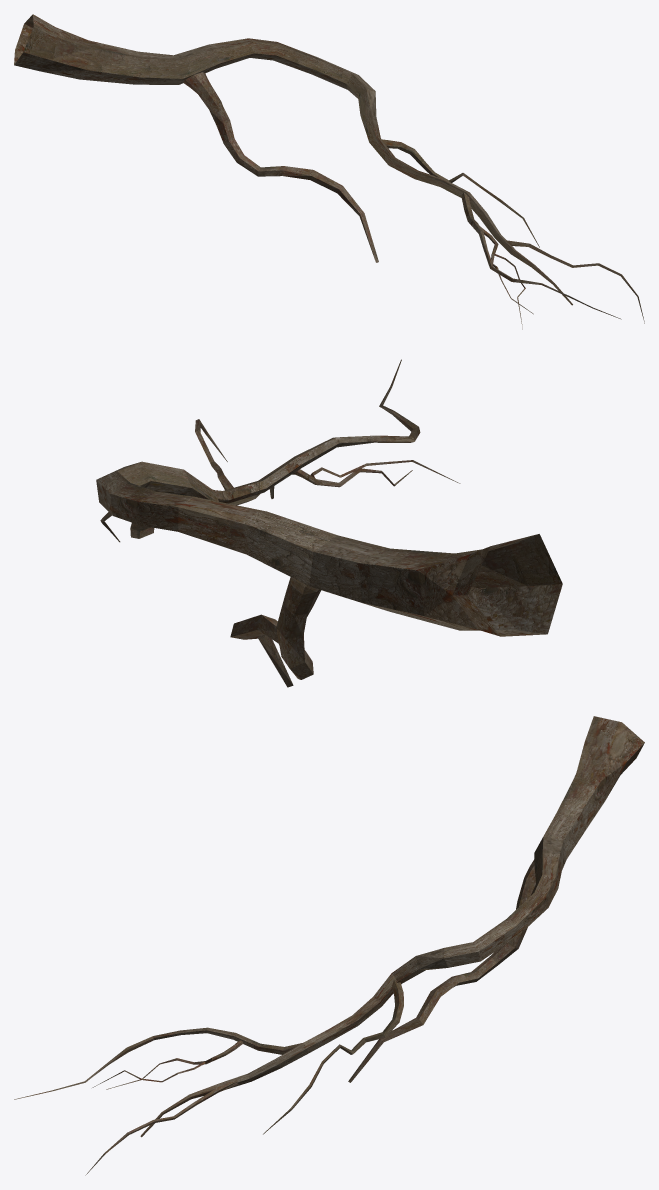
File: House62.fbx
The picture shows the model from 3 angles, top to bottom: view 1: azimuth 30°, elevation 25°; view 2: azimuth 150°, elevation 25°; view 3: azimuth 270°, elevation 25°; orthographic projection. The views are drawn at different scales.
Visible parts, largest first — view 1: AT_BGAgo_TrI06.mo; view 2: AT_BGAgo_TrI06.mo; view 3: AT_BGAgo_TrI06.mo.
Boxes of the visible parts, <box> form: AT_BGAgo_TrI06.mo: <box>14,14,644,329</box>; AT_BGAgo_TrI06.mo: <box>96,359,562,687</box>; AT_BGAgo_TrI06.mo: <box>14,716,644,1175</box>.
Bounding box in the file's own units: 1356 × 731 × 1666.
